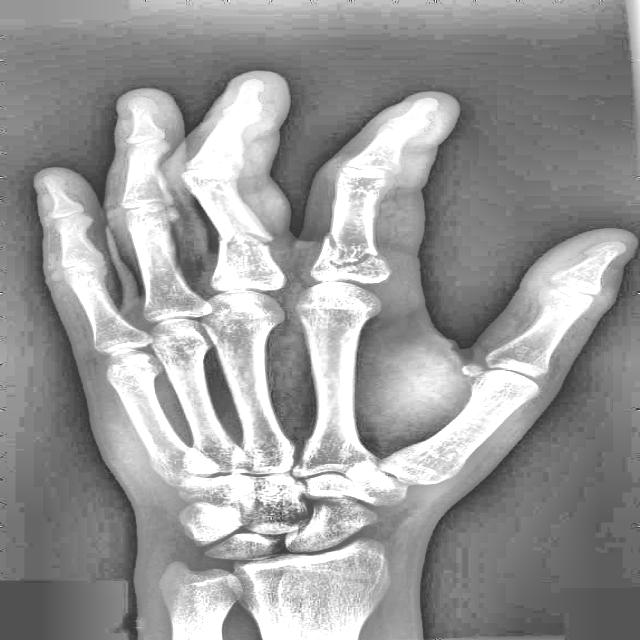fracture: (320, 232, 382, 269), (216, 231, 279, 252)
